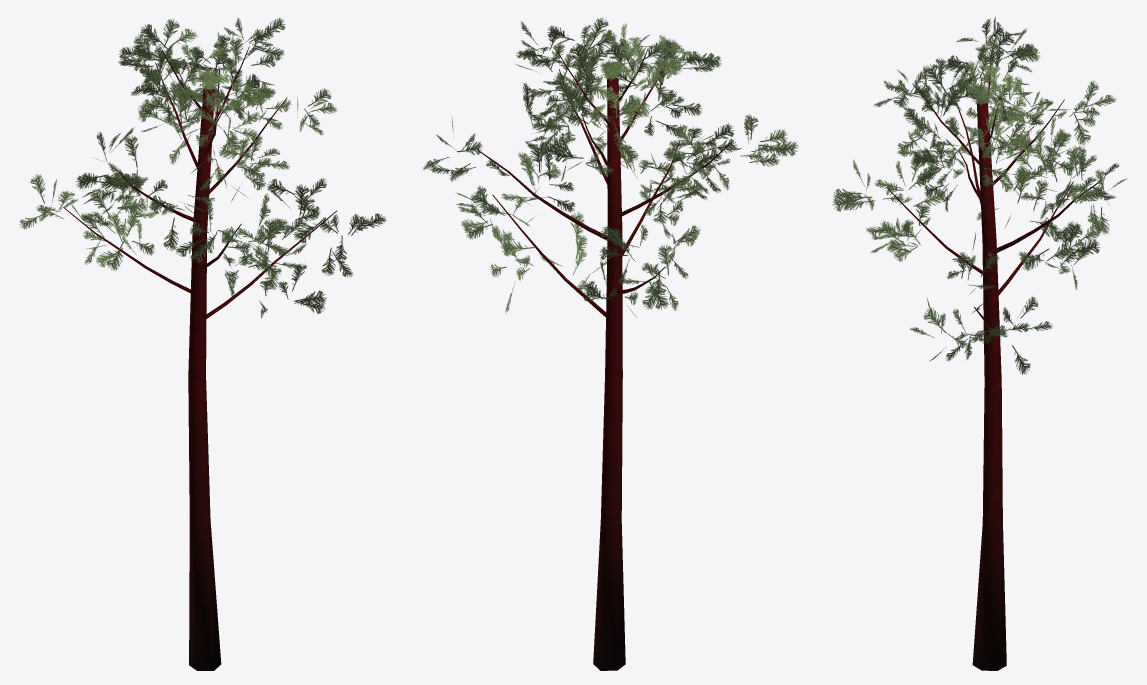
Rendered from pine_open_v01_LOD2.glb.
3 views of the same model, side by side, from view 1: azimuth 30°, elevation 25°; view 2: azimuth 150°, elevation 25°; view 3: azimuth 270°, elevation 25° (orthographic). The views are drawn at different scales.
Parts seen in each view (by area): view 1: pine_open_v01_LOD2; view 2: pine_open_v01_LOD2; view 3: pine_open_v01_LOD2.
Boxes of the visible parts, x1=… form: pine_open_v01_LOD2: x1=19, y1=17, x2=386, y2=670; pine_open_v01_LOD2: x1=423, y1=17, x2=798, y2=670; pine_open_v01_LOD2: x1=832, y1=17, x2=1127, y2=670.
Bounding box in the file's own units: 9.48 × 17.89 × 7.84.
2 materials, 2 textured.
